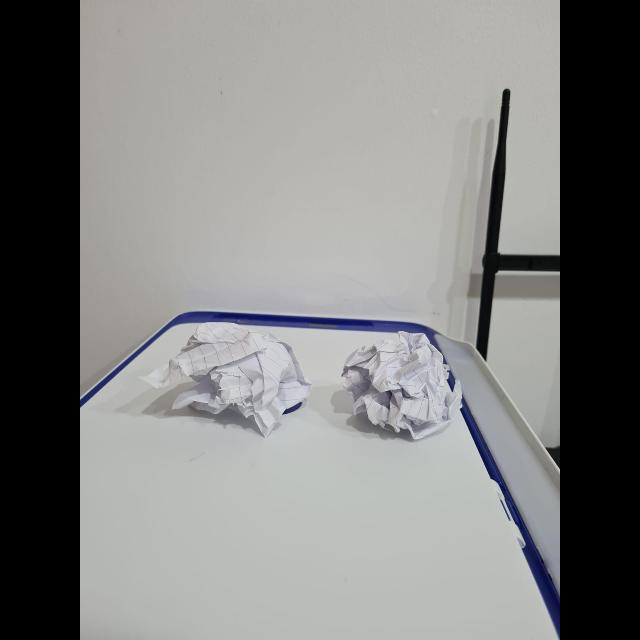trash: (175, 318, 311, 428), (337, 329, 458, 428)
